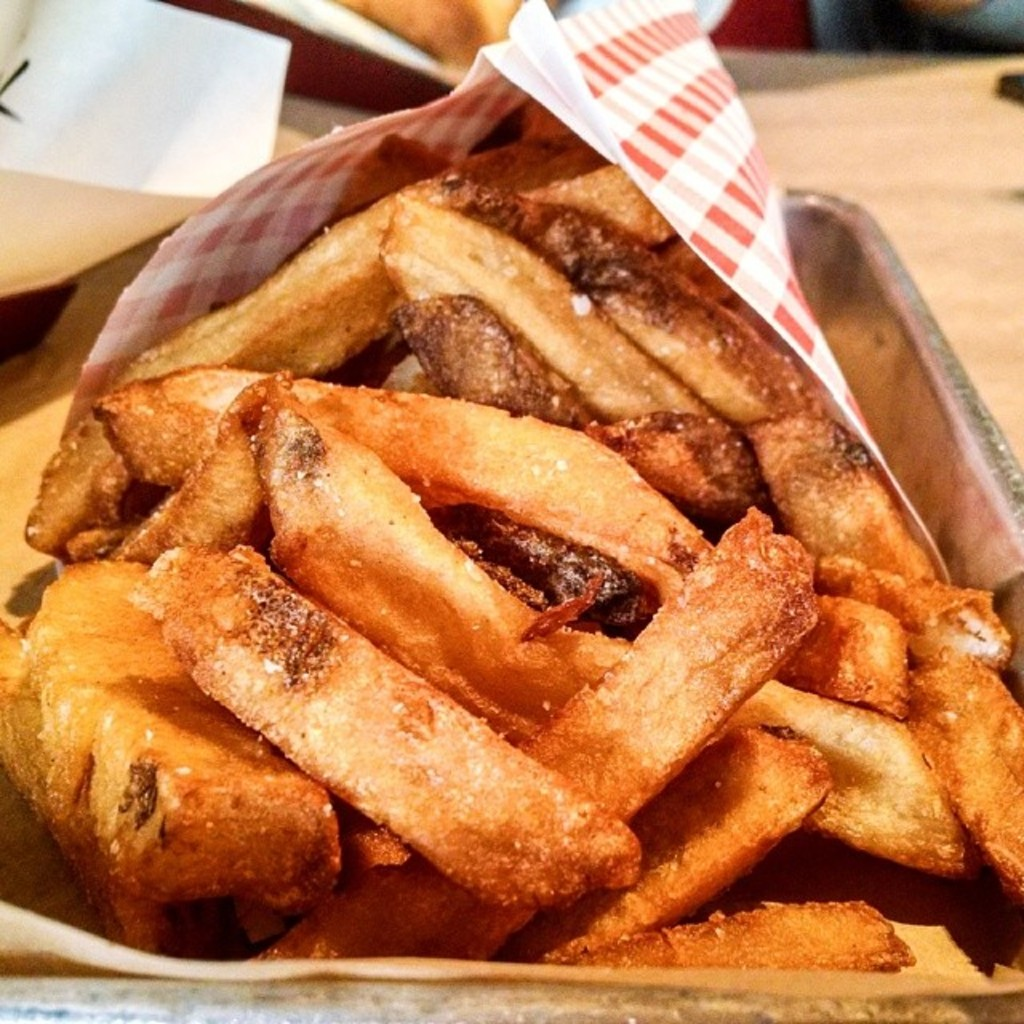French fries: (9, 92, 998, 1024)
